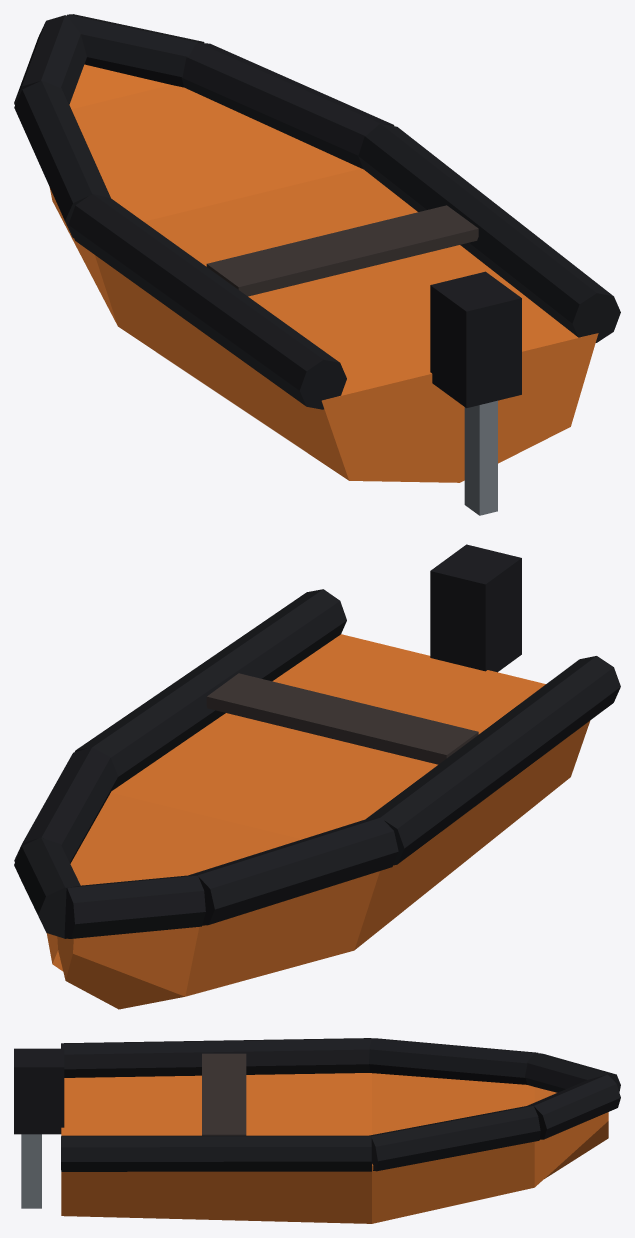
The model's file is dinghy.glb.
3 renders of one model, top to bottom at view 1: azimuth 30°, elevation 25°; view 2: azimuth 150°, elevation 25°; view 3: azimuth 270°, elevation 25°, orthographic. The views are drawn at different scales.
Parts seen in each view (by area): view 1: dinghy_Body; view 2: dinghy_Body; view 3: dinghy_Body.
Part boxes in pixels (bbox=[...]): dinghy_Body: bbox=[14, 14, 620, 515]; dinghy_Body: bbox=[14, 544, 620, 1009]; dinghy_Body: bbox=[14, 1038, 620, 1223].
Size of the model in its own units: 1.82 by 1.1 by 4.1.
